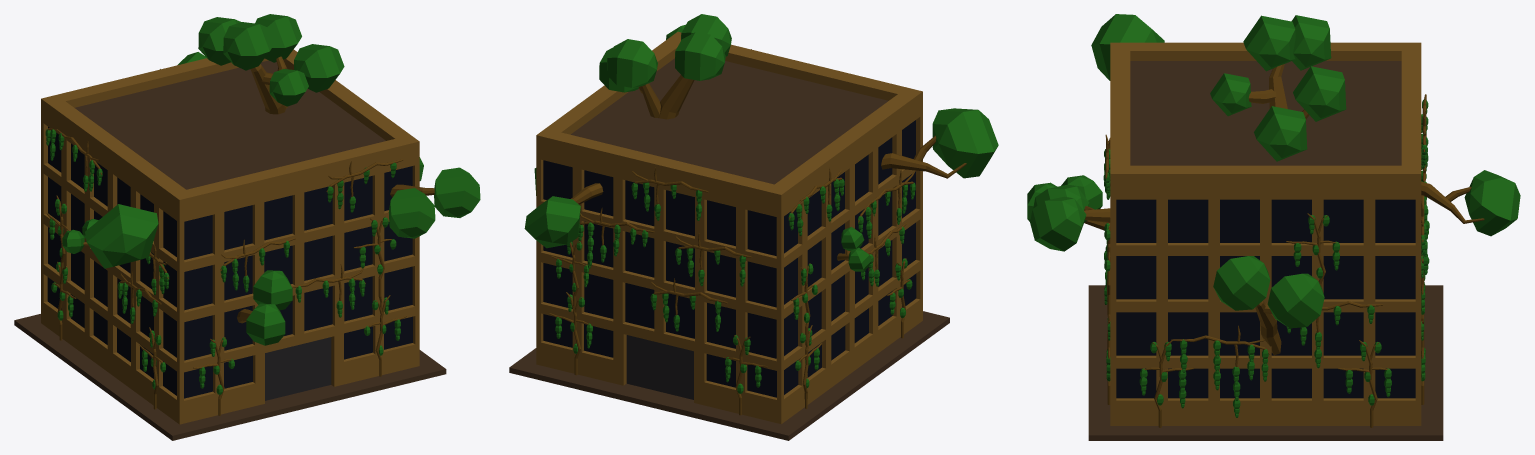
The model's file is building1_stage3.fbx.
3 views of the same model, side by side, from view 1: azimuth 30°, elevation 25°; view 2: azimuth 150°, elevation 25°; view 3: azimuth 270°, elevation 25° (orthographic). The views are drawn at different scales.
Parts seen in each view (by area): view 1: Building1_Stage3; view 2: Building1_Stage3; view 3: Building1_Stage3.
Part boxes in pixels (left/top/right/bottom): Building1_Stage3: left=14, top=14, right=480, bottom=440; Building1_Stage3: left=509, top=14, right=998, bottom=440; Building1_Stage3: left=1027, top=14, right=1520, bottom=440.
Size of the model in its own units: 634 by 509 by 634.
